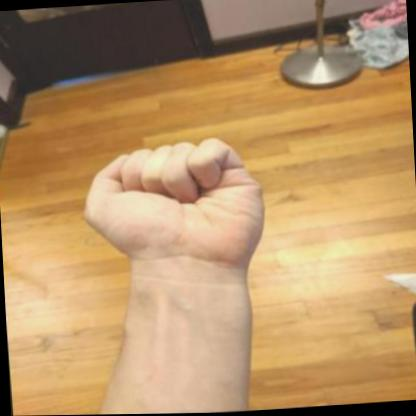A: (69, 128, 273, 286)
